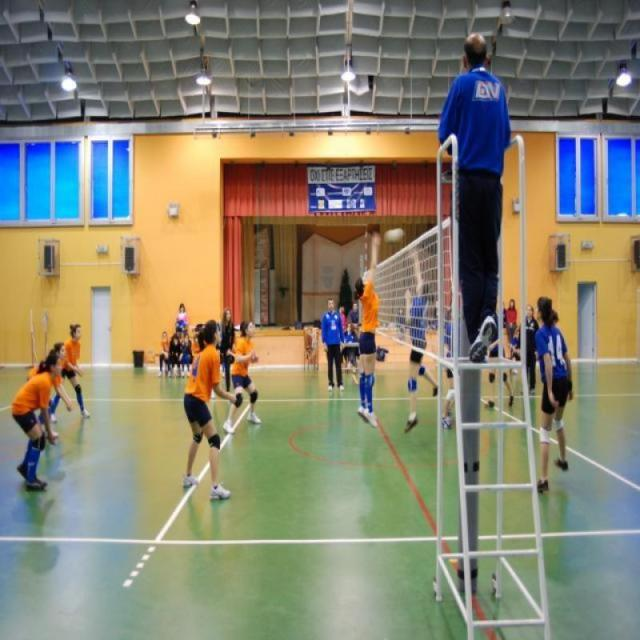volleyball: (384, 227, 404, 246)
